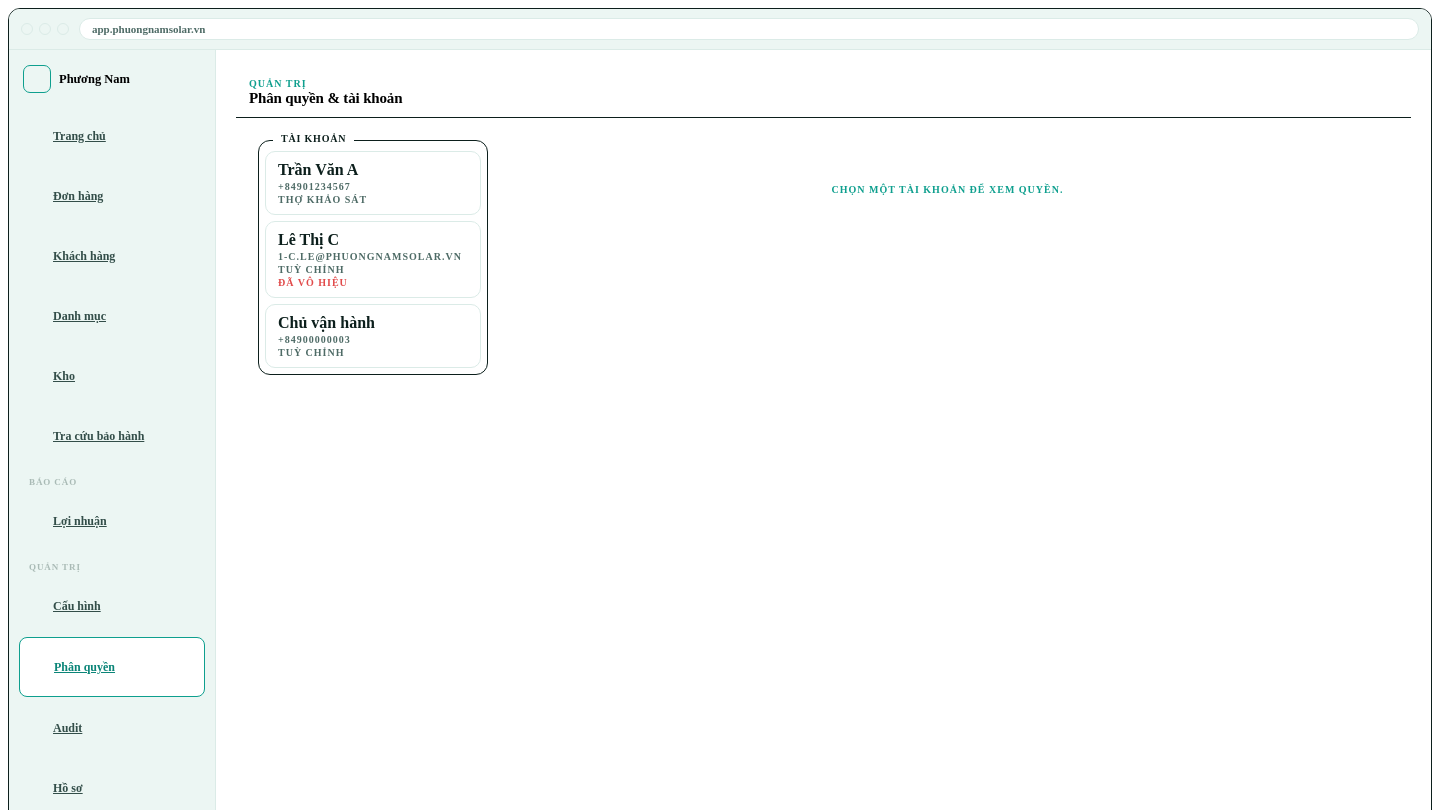
smoke render — mọi màn web/src/screens › PermissionsScreen — the account list loaded from the port, then one account’s checklist
This screenshot has width=1440, height=810.
Click the button "Trần Văn A +84901234567 Thợ khảo sát" at (373, 183), box x1=265 y1=151 x2=481 y2=215
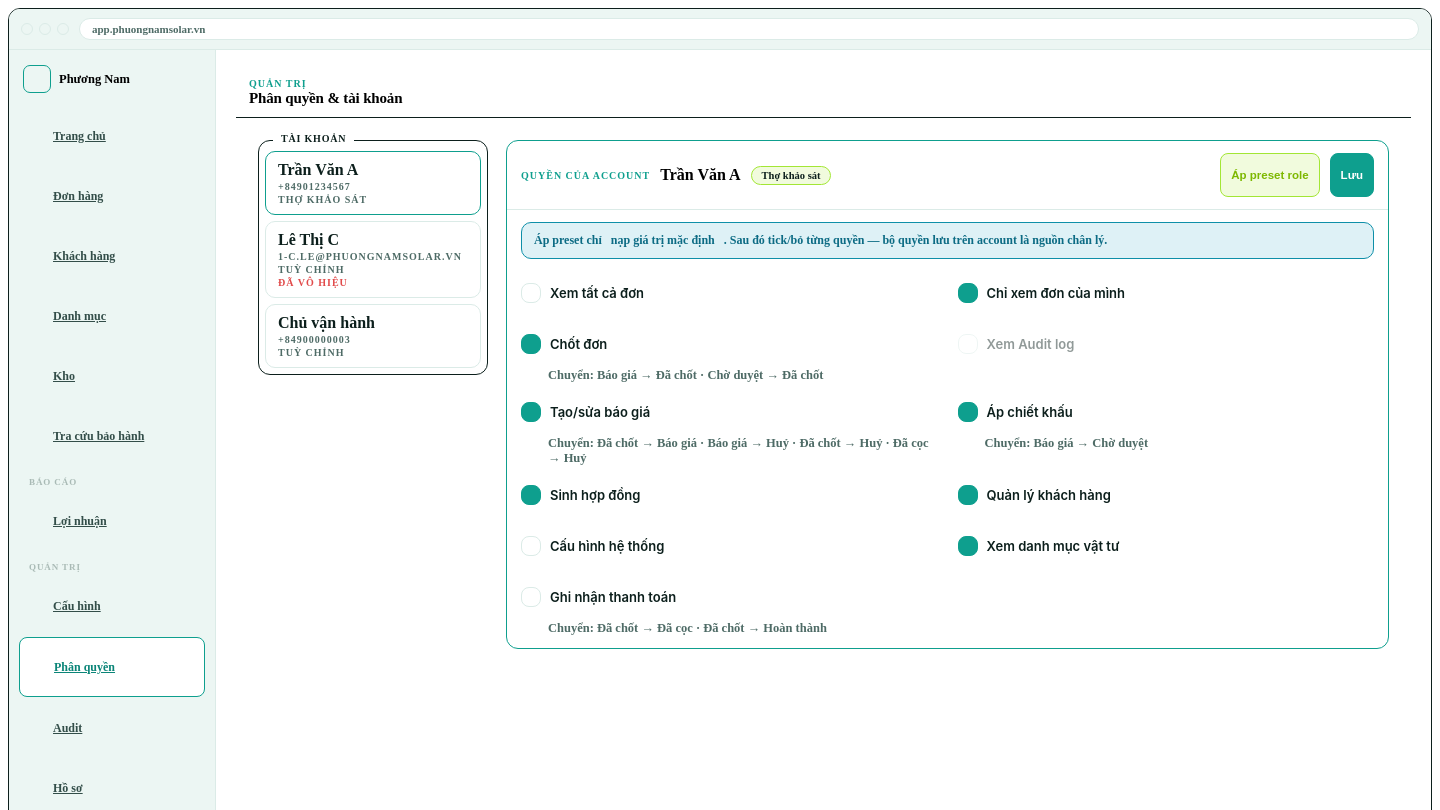
Now the text "Quyền của account" is shown, box x1=521 y1=170 x2=650 y2=180
Now the button "Áp preset role" is shown, box x1=1220 y1=153 x2=1320 y2=197
Now the checkbox labelled "Tạo/sửa báo giá" is shown, box x1=521 y1=402 x2=650 y2=422
